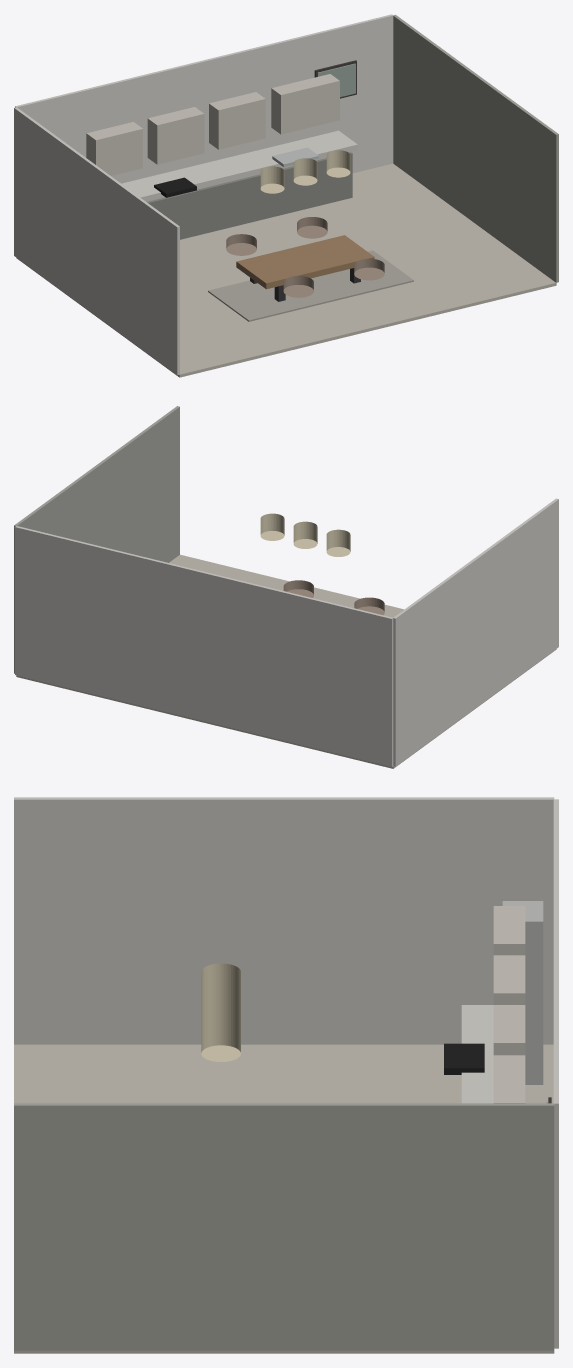
Rendered from portfolio_kitchen_dining.glb.
3 views of the same model, one above another, from view 1: azimuth 30°, elevation 25°; view 2: azimuth 150°, elevation 25°; view 3: azimuth 270°, elevation 25° (orthographic). The views are drawn at different scales.
Parts seen in each view (by area): view 1: PortfolioKitchenDining; view 2: PortfolioKitchenDining; view 3: PortfolioKitchenDining.
Boxes of the visible parts, <box> form: PortfolioKitchenDining: <box>14,14,558,377</box>; PortfolioKitchenDining: <box>14,406,558,768</box>; PortfolioKitchenDining: <box>14,797,558,1353</box>.
Bounding box in the file's own units: 8.1 × 3.06 × 6.05.
